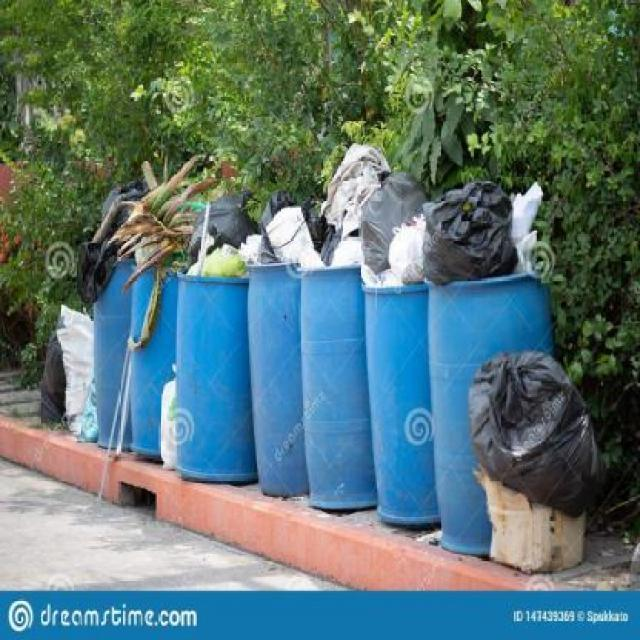garbage: (100, 163, 516, 278), (469, 342, 594, 563)
